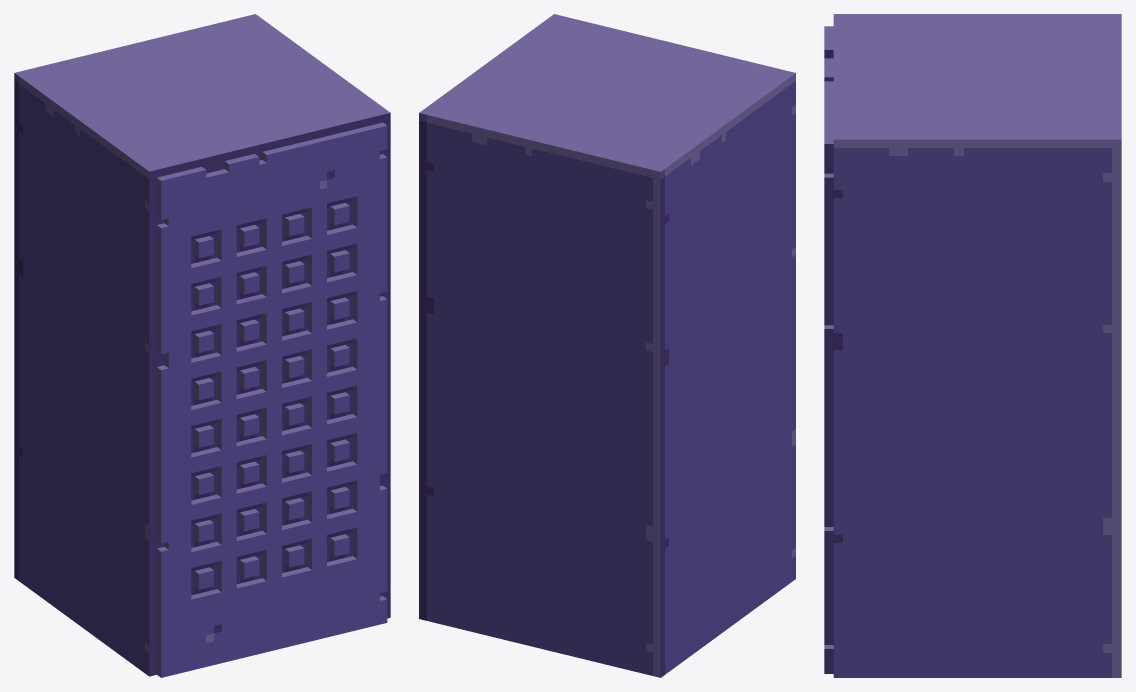
File: 32_bit_doorao.fezao.glb
3 renders of one model, left to right at view 1: azimuth 30°, elevation 25°; view 2: azimuth 150°, elevation 25°; view 3: azimuth 270°, elevation 25°, orthographic. The views are drawn at different scales.
Parts seen in each view (by area): view 1: 32_BIT_DOORAO; view 2: 32_BIT_DOORAO; view 3: 32_BIT_DOORAO.
Boxes of the visible parts, x1,y1,x2,y2 form: 32_BIT_DOORAO: (14,14,390,677); 32_BIT_DOORAO: (419,14,795,677); 32_BIT_DOORAO: (824,14,1121,677).
Size of the model in its own units: 2 by 4 by 2.
Materials: 1 (1 with a texture image).
